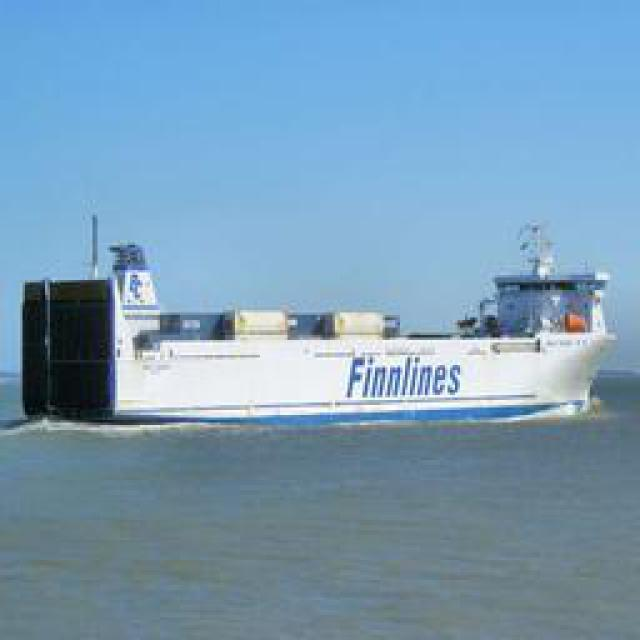Ship: (80, 234, 618, 427)
